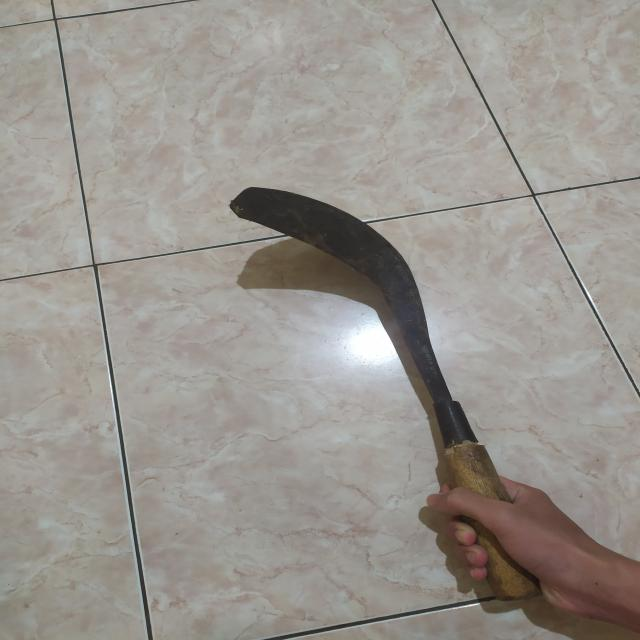Celurit: (234, 185, 547, 606)
